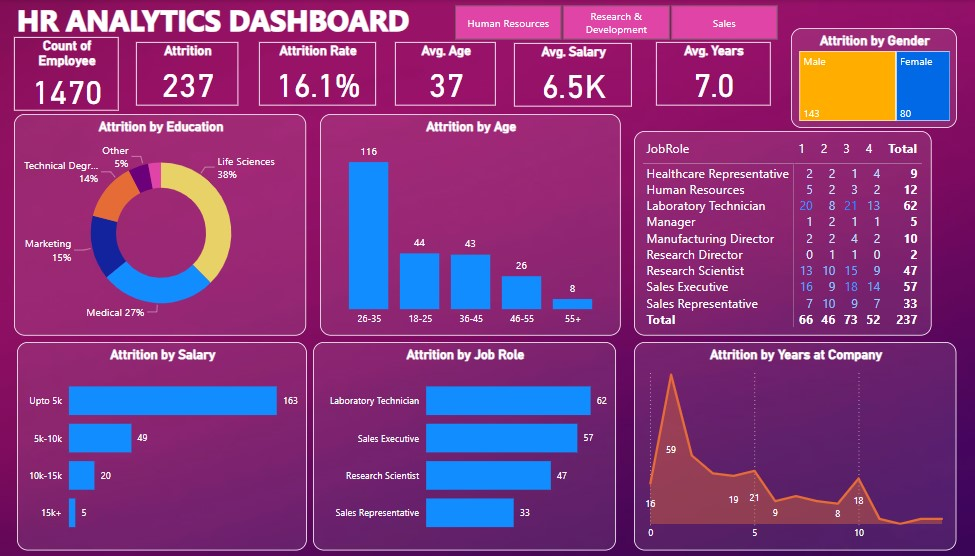

The dashboard page shown, as its layout file describes it:
{"tool":"powerbi","page":{"name":"Page 1","canvas":[1280,720],"ordinal":0},"visuals":[{"type":"card","title":"Count of Employee","fields":{"Values":["CountNonNull(HR_Analytics.EmpID)"]},"box":[18.6,48.2,135.1,94.8],"z":0},{"type":"card","title":"Attrition","fields":{"Values":["Sum(HR_Analytics.AttritionCount)"]},"box":[175.5,54.4,132,82.3],"z":1000},{"type":"card","title":"Attrition Rate","fields":{"Values":["HR_Analytics.AttritionRate"]},"box":[334,54.4,150.7,82.3],"z":2000},{"type":"card","title":"Avg. Salary","fields":{"Values":["Avg(HR_Analytics.MonthlyIncome)"]},"box":[663.3,55.9,152.2,82.3],"z":3000},{"type":"card","title":"Avg. Years","fields":{"Values":["Avg(HR_Analytics.YearsAtCompany)"]},"box":[846.6,54.4,147.6,82.3],"z":4000},{"type":"card","title":"Avg. Age","fields":{"Values":["Avg(HR_Analytics.Age)"]},"box":[509.5,54.4,130.5,82.3],"z":5000},{"type":"donutChart","title":"Attrition by Education","fields":{"Category":["HR_Analytics.EducationField"],"Y":["Sum(HR_Analytics.AttritionCount)"]},"box":[18.6,147.6,377.5,285.8],"z":6000},{"type":"columnChart","title":"Attrition by Age","fields":{"Category":["HR_Analytics.AgeGroup"],"Y":["Sum(HR_Analytics.AttritionCount)"]},"box":[413.2,147.6,388.3,285.8],"z":7000},{"type":"pivotTable","fields":{"Rows":["HR_Analytics.JobRole"],"Columns":["HR_Analytics.JobSatisfaction"],"Values":["Sum(HR_Analytics.AttritionCount)"]},"box":[818.6,169.3,383.7,264.1],"z":8000},{"type":"barChart","title":"Attrition by Salary","fields":{"Category":["HR_Analytics.SalarySlab"],"Y":["Sum(HR_Analytics.AttritionCount)"]},"box":[21.7,441.2,374.4,268.7],"z":9000},{"type":"barChart","title":"Attrition by Job Role","fields":{"Category":["HR_Analytics.JobRole"],"Y":["Sum(HR_Analytics.AttritionCount)"]},"box":[403.9,441.2,391.5,268.7],"z":10000},{"type":"stackedAreaChart","title":"Attrition by Years at Company","fields":{"Category":["HR_Analytics.YearsAtCompany"],"Y":["Sum(HR_Analytics.AttritionCount)"]},"box":[818.6,441.2,416.3,268.7],"z":11000},{"type":"treemap","title":"Attrition by Gender","fields":{"Group":["HR_Analytics.Gender"],"Values":["Sum(HR_Analytics.AttritionCount)"]},"box":[1020.6,35.7,214.4,128.9],"z":12000},{"type":"slicer","fields":{"Values":["HR_Analytics.Department"]},"box":[560.8,0,466,54.4],"z":12001},{"type":"textbox","box":[21.7,0,539,54.4],"z":12002}]}

Visuals, with their boxes in screenshot pixels (x1, y1, x2, y2), scaled from the page's 1280x720 canvas onto the 975x556 screenshot:
"Count of Employee" card: region(14, 37, 117, 110)
"Attrition" card: region(134, 42, 234, 106)
"Attrition Rate" card: region(254, 42, 369, 106)
"Avg. Salary" card: region(505, 43, 621, 107)
"Avg. Years" card: region(645, 42, 757, 106)
"Avg. Age" card: region(388, 42, 488, 106)
"Attrition by Education" donutChart: region(14, 114, 302, 335)
"Attrition by Age" columnChart: region(315, 114, 611, 335)
pivotTable - HR_Analytics.JobRole x HR_Analytics.JobSatisfaction: region(624, 131, 916, 335)
"Attrition by Salary" barChart: region(17, 341, 302, 548)
"Attrition by Job Role" barChart: region(308, 341, 606, 548)
"Attrition by Years at Company" stackedAreaChart: region(624, 341, 941, 548)
"Attrition by Gender" treemap: region(777, 28, 941, 127)
slicer - HR_Analytics.Department: region(427, 0, 782, 42)
textbox: region(17, 0, 427, 42)
